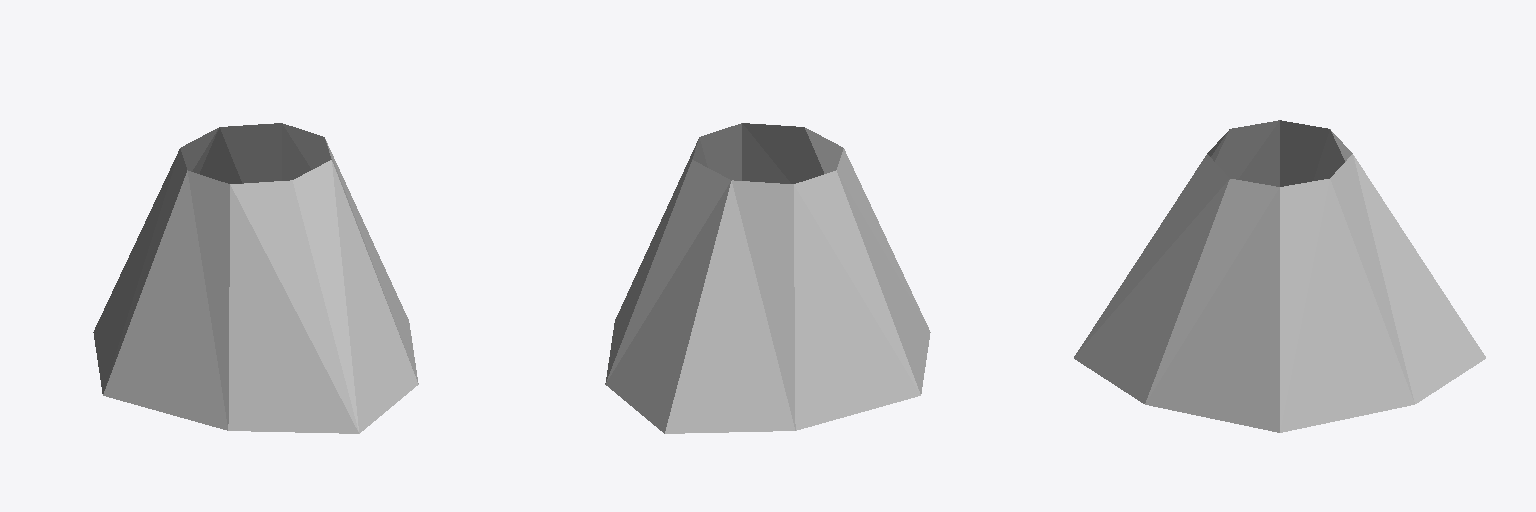
The model's file is lamp_cover.obj.
3 renders of one model, left to right at view 1: azimuth 30°, elevation 25°; view 2: azimuth 150°, elevation 25°; view 3: azimuth 270°, elevation 25°, orthographic.
Parts seen in each view (by area): view 1: LAMP_COVER; view 2: LAMP_COVER; view 3: LAMP_COVER.
Part boxes in pixels (left/top/right/bottom): LAMP_COVER: left=93, top=123, right=418, bottom=433; LAMP_COVER: left=605, top=123, right=930, bottom=433; LAMP_COVER: left=1074, top=120, right=1485, bottom=432.
Bounding box in the file's own units: 0.8675 × 0.5537 × 1.01.